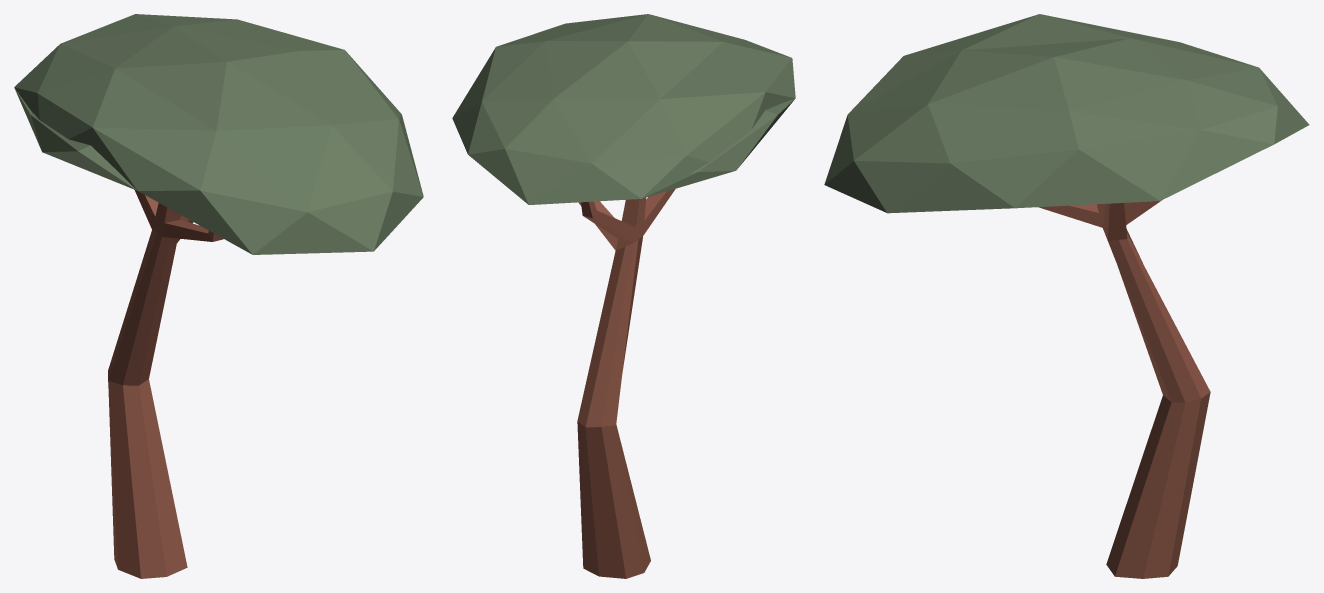
File: Trees4.gltf
3 renders of one model, left to right at view 1: azimuth 30°, elevation 25°; view 2: azimuth 150°, elevation 25°; view 3: azimuth 270°, elevation 25°, orthographic. The views are drawn at different scales.
Visible parts, largest first — view 1: Icosphere.002, Cube.002; view 2: Icosphere.002, Cube.002; view 3: Icosphere.002, Cube.002.
Boxes of the visible parts, x1,y1,x2,y2 form: Icosphere.002: (14,14,423,254); Cube.002: (108,189,223,578); Icosphere.002: (452,14,795,204); Cube.002: (577,189,675,578); Icosphere.002: (824,14,1309,213); Cube.002: (1038,200,1210,578).
Bounding box in the file's own units: 13.37 × 21.62 × 18.15.
